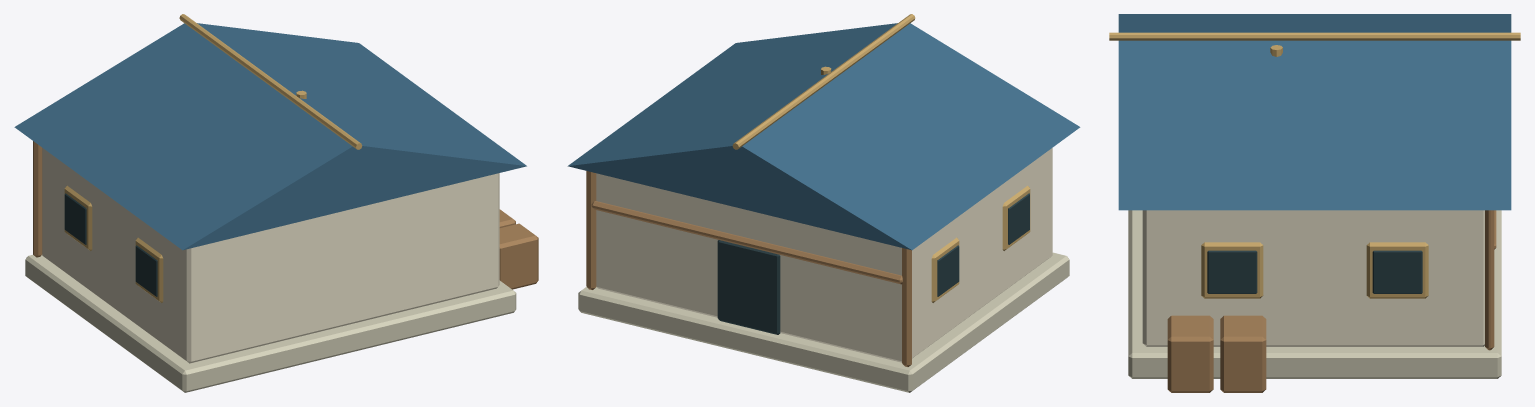
The model's file is level_01.glb.
3 views of the same model, side by side, from view 1: azimuth 30°, elevation 25°; view 2: azimuth 150°, elevation 25°; view 3: azimuth 270°, elevation 25° (orthographic). The views are drawn at different scales.
Visible parts, largest first — view 1: warehouse — level 01; view 2: warehouse — level 01; view 3: warehouse — level 01.
Boxes of the visible parts, x1,y1,x2,y2 form: warehouse — level 01: [14, 14, 538, 392]; warehouse — level 01: [567, 14, 1080, 392]; warehouse — level 01: [1109, 14, 1520, 392].
Size of the model in its own units: 5.32 by 2.91 by 4.3.
